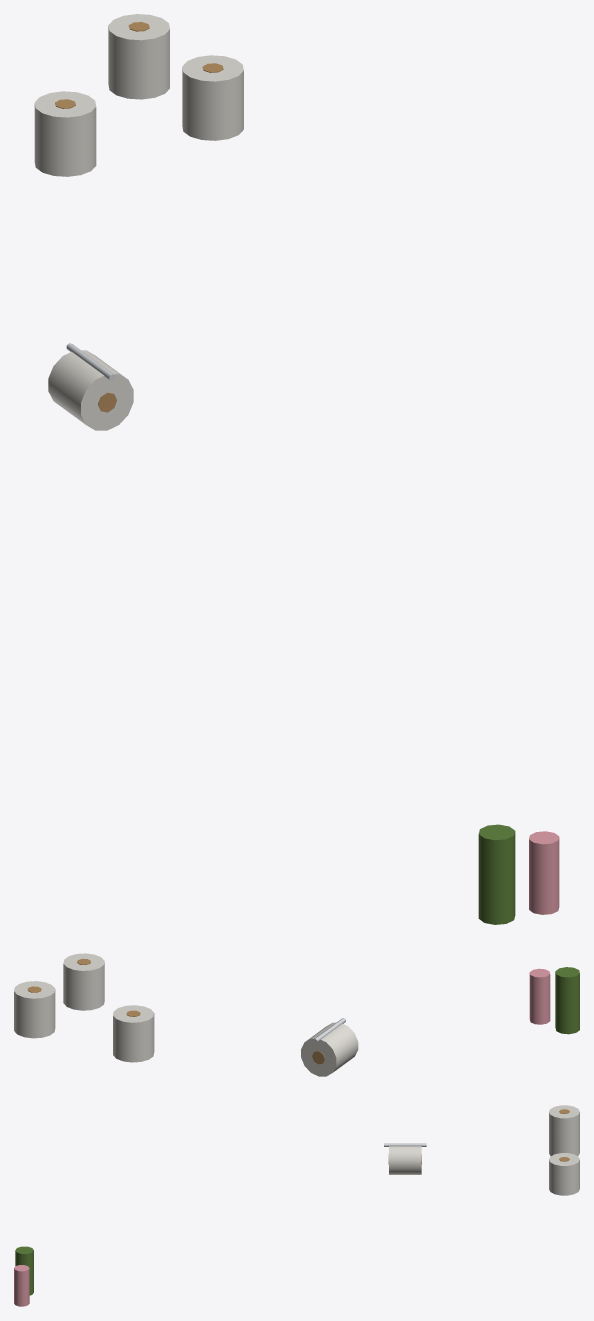
Rendered from bath-bits.glb.
3 views of the same model, one above another, from view 1: azimuth 30°, elevation 25°; view 2: azimuth 150°, elevation 25°; view 3: azimuth 270°, elevation 25° (orthographic). The views are drawn at different scales.
Size of the model in its own units: 2.47 by 3.2 by 7.27.
